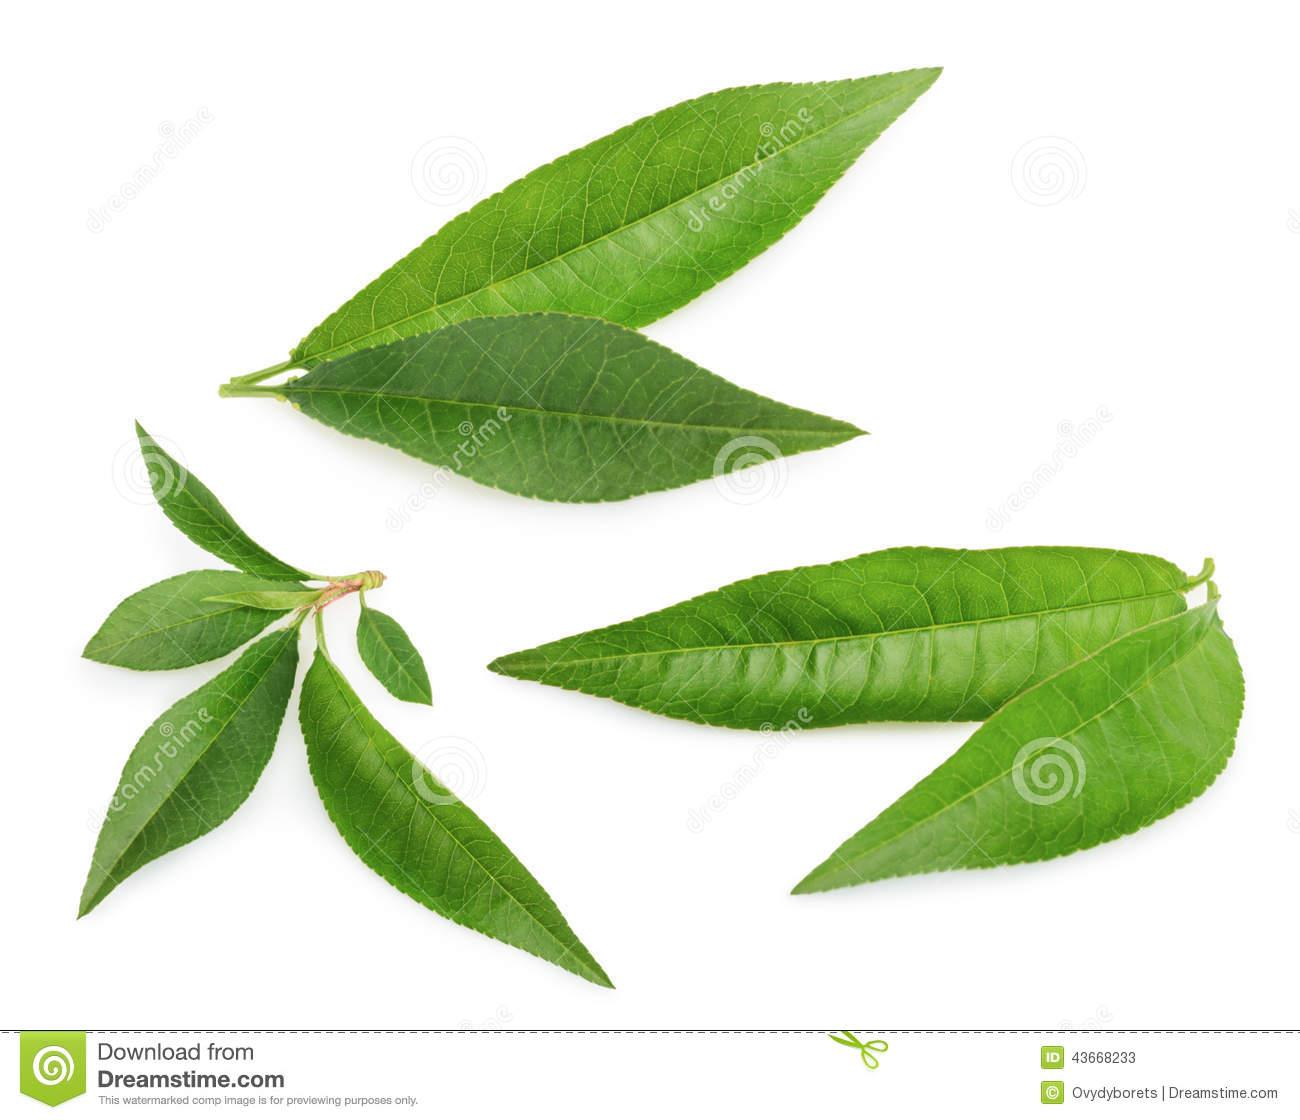Peach leaf: (280, 59, 953, 379), (474, 526, 1204, 765), (788, 595, 1251, 896), (268, 304, 878, 500), (303, 646, 619, 995), (74, 630, 301, 938), (130, 417, 313, 580), (61, 569, 306, 671), (355, 597, 437, 708)
